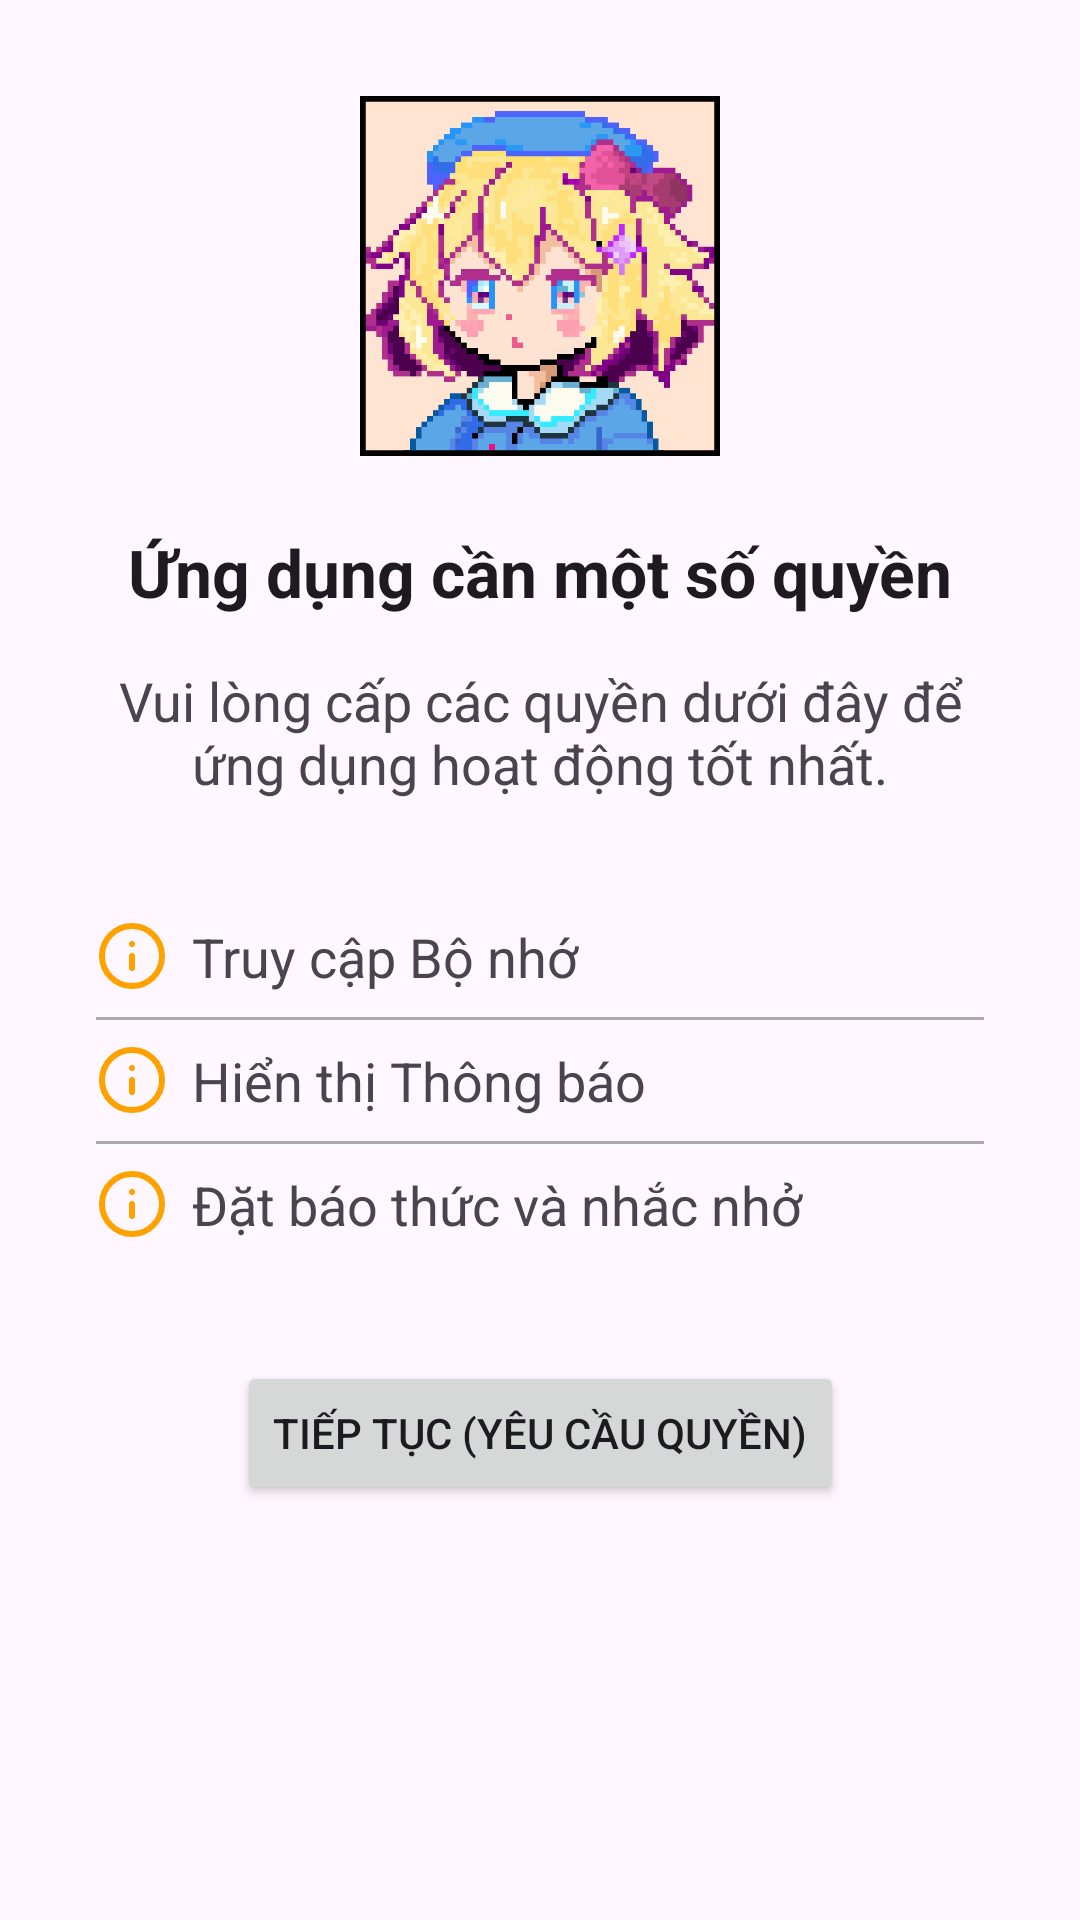

Point at icon controls on the screen. Image size 1080px×1920px, points as point (x, y).
Alarms Permission Status: point (132, 1204)
Notifications Permission Status: point (132, 1080)
Storage Permission Status: point (132, 956)
